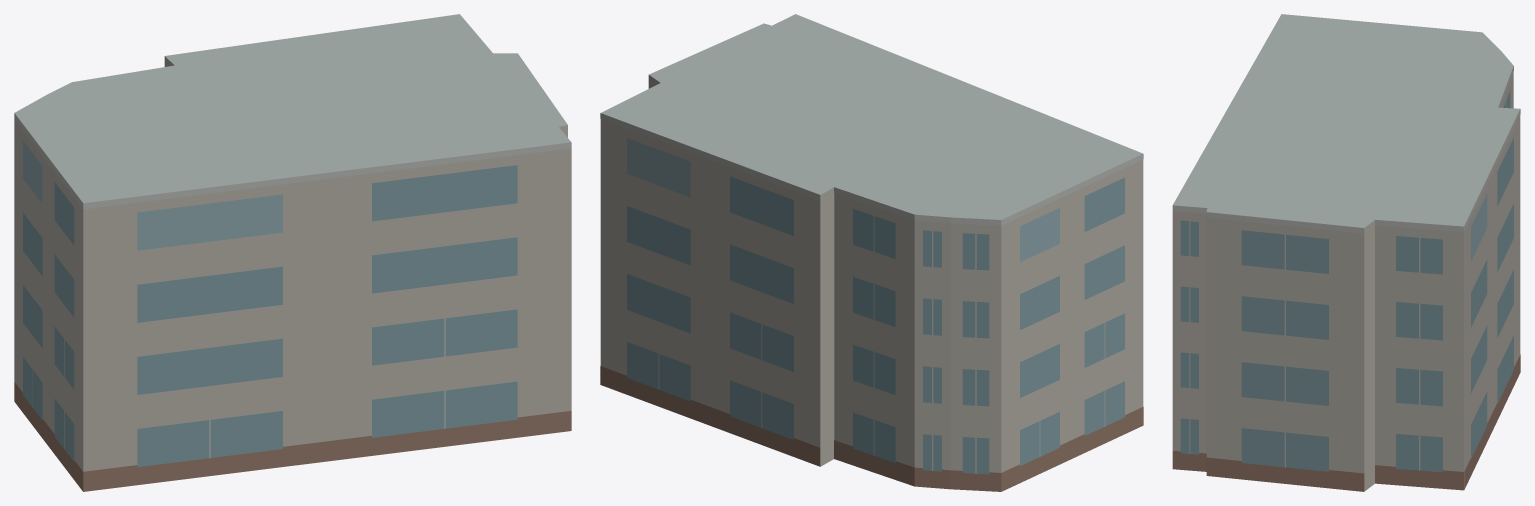
The model's file is survey-upis-32806022.glb.
3 views of the same model, side by side, from view 1: azimuth 30°, elevation 25°; view 2: azimuth 150°, elevation 25°; view 3: azimuth 270°, elevation 25° (orthographic). The views are drawn at different scales.
Visible parts, largest first — view 1: survey-upis-32806022.tmp; view 2: survey-upis-32806022.tmp; view 3: survey-upis-32806022.tmp.
Part boxes in pixels (bbox=[...]): survey-upis-32806022.tmp: bbox=[14, 14, 571, 491]; survey-upis-32806022.tmp: bbox=[600, 14, 1143, 491]; survey-upis-32806022.tmp: bbox=[1172, 14, 1520, 491].
Bounding box in the file's own units: 20.05 × 11.52 × 13.78.
